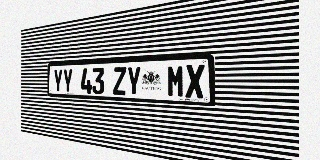3: (92, 68, 104, 94)
4: (81, 68, 92, 94)
M: (167, 65, 185, 98)
X: (185, 64, 205, 98)
Y: (127, 66, 141, 96), (53, 69, 63, 93), (63, 69, 73, 93)
Z: (113, 67, 126, 95)
